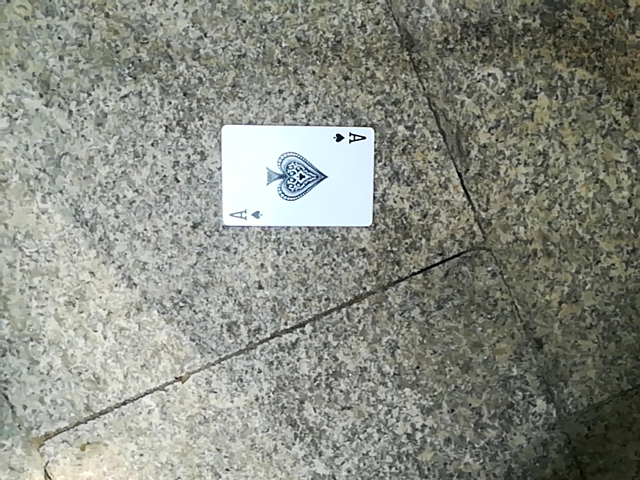ht a: (222, 116, 379, 227)
